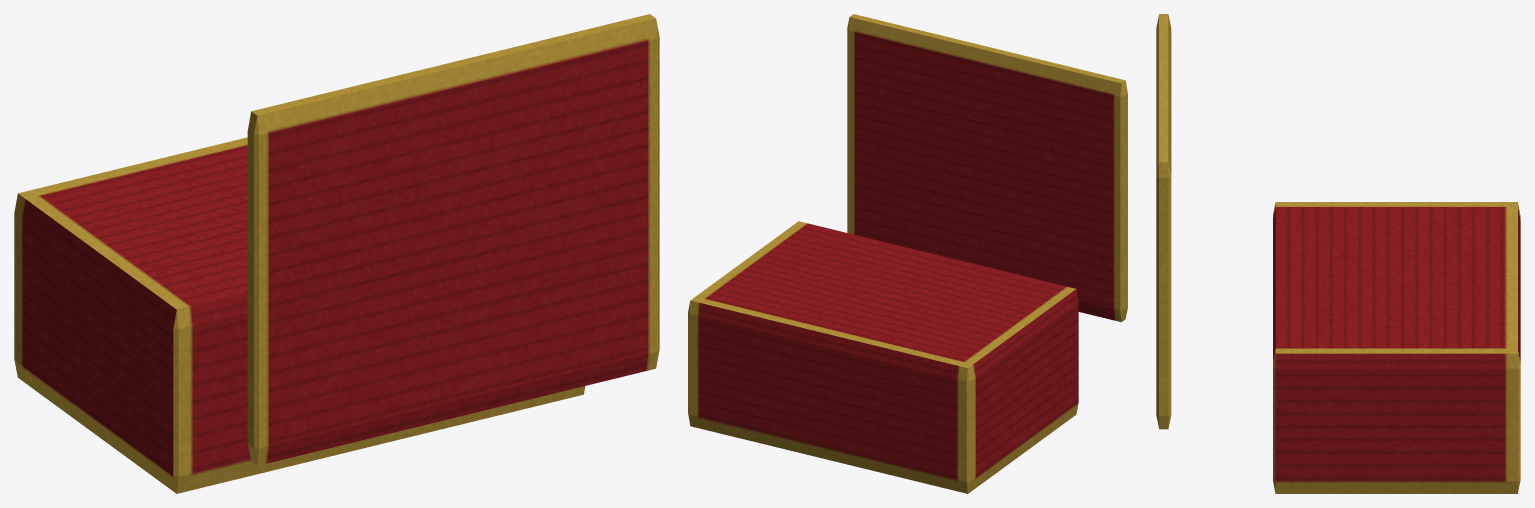
The model's file is Book.glb.
The picture shows the model from 3 angles, left to right: view 1: azimuth 30°, elevation 25°; view 2: azimuth 150°, elevation 25°; view 3: azimuth 270°, elevation 25°; orthographic projection. The views are drawn at different scales.
Parts seen in each view (by area): view 1: Book; view 2: Book; view 3: Book.
Part boxes in pixels (x1,y1,x2,y2): Book: (14,14,659,493); Book: (688,14,1127,493); Book: (1156,14,1520,493).
Size of the model in its own units: 1 by 1 by 1.
1 material, 1 textured.
